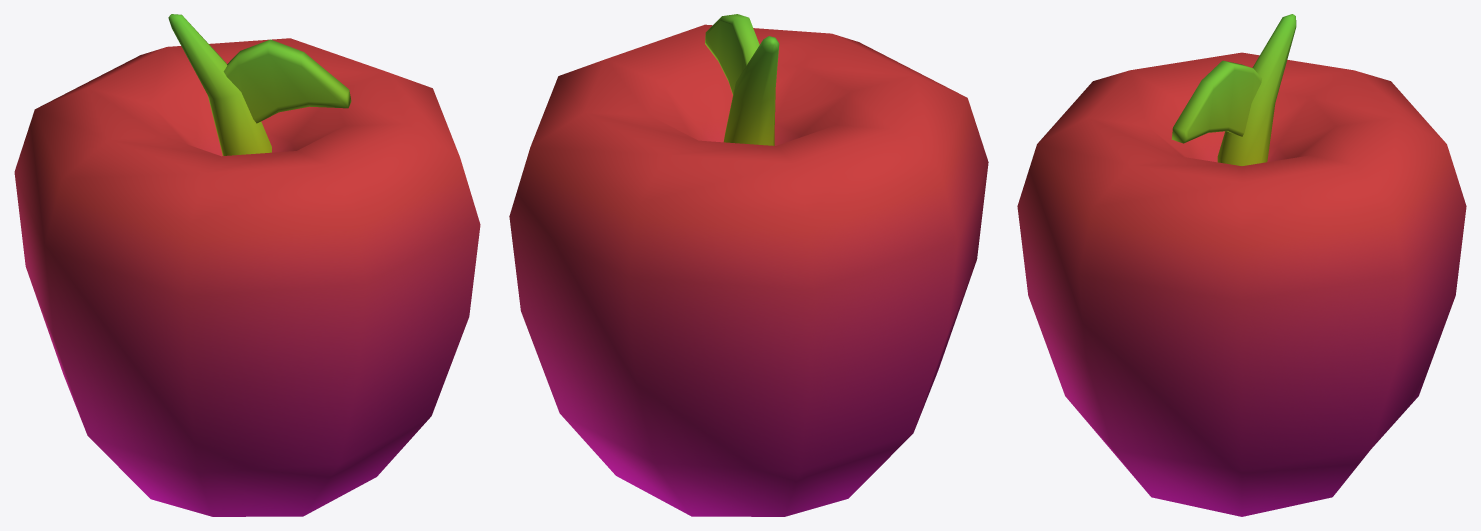
The model's file is apple_mesh.fbx.
The picture shows the model from 3 angles, left to right: view 1: azimuth 30°, elevation 25°; view 2: azimuth 150°, elevation 25°; view 3: azimuth 270°, elevation 25°; orthographic projection. The views are drawn at different scales.
Parts seen in each view (by area): view 1: Cube; view 2: Cube; view 3: Cube.
Part boxes in pixels (x1,y1,x2,y2): Cube: (14,14,480,516); Cube: (509,14,988,516); Cube: (1017,14,1466,516).
Size of the model in its own units: 179 by 203 by 179.
1 material, 1 textured.
